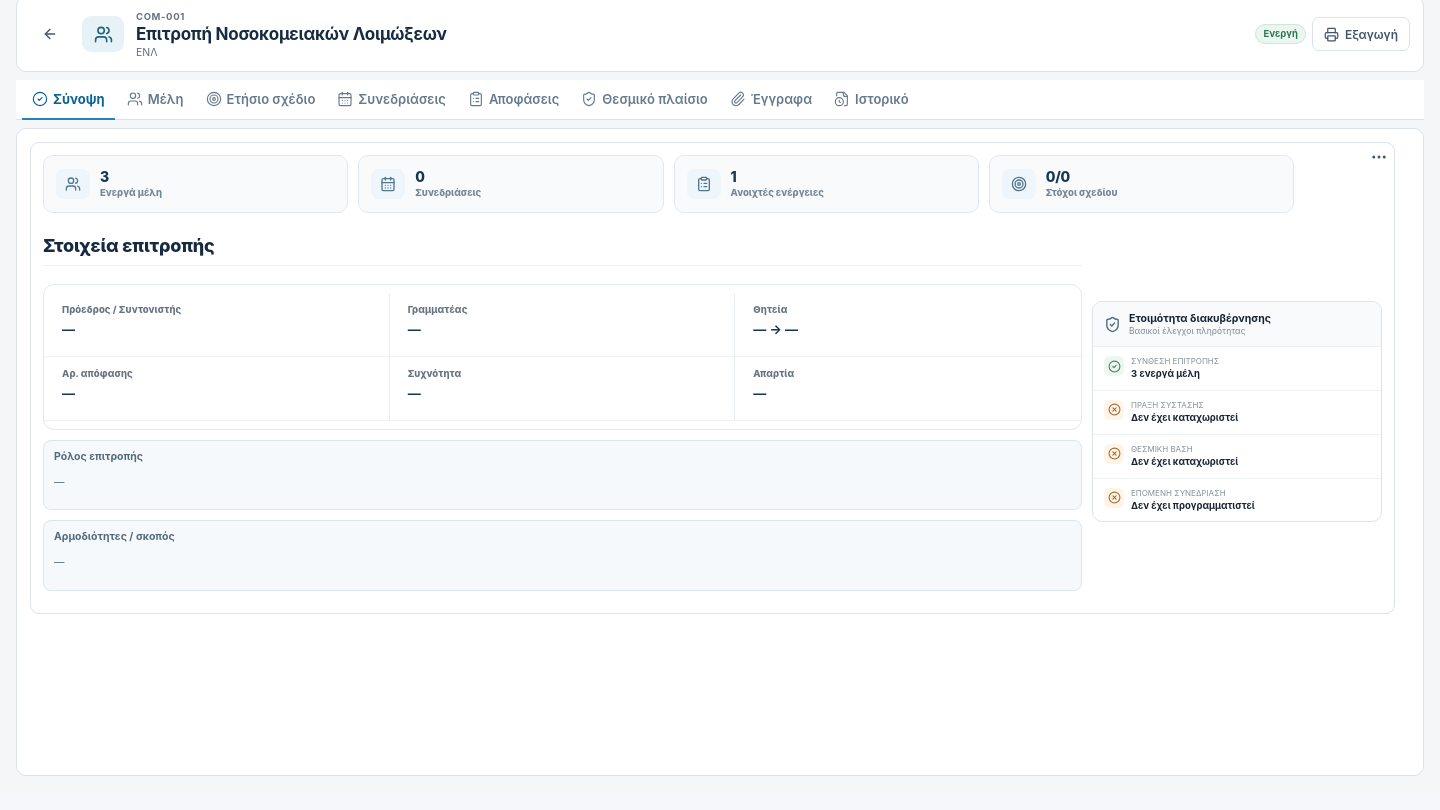
committee record: members › ends a membership through a reason dialog, never a browser prompt
The image size is (1440, 810).
Click the tab "Μέλη": (155, 100) [117,80,194,120]
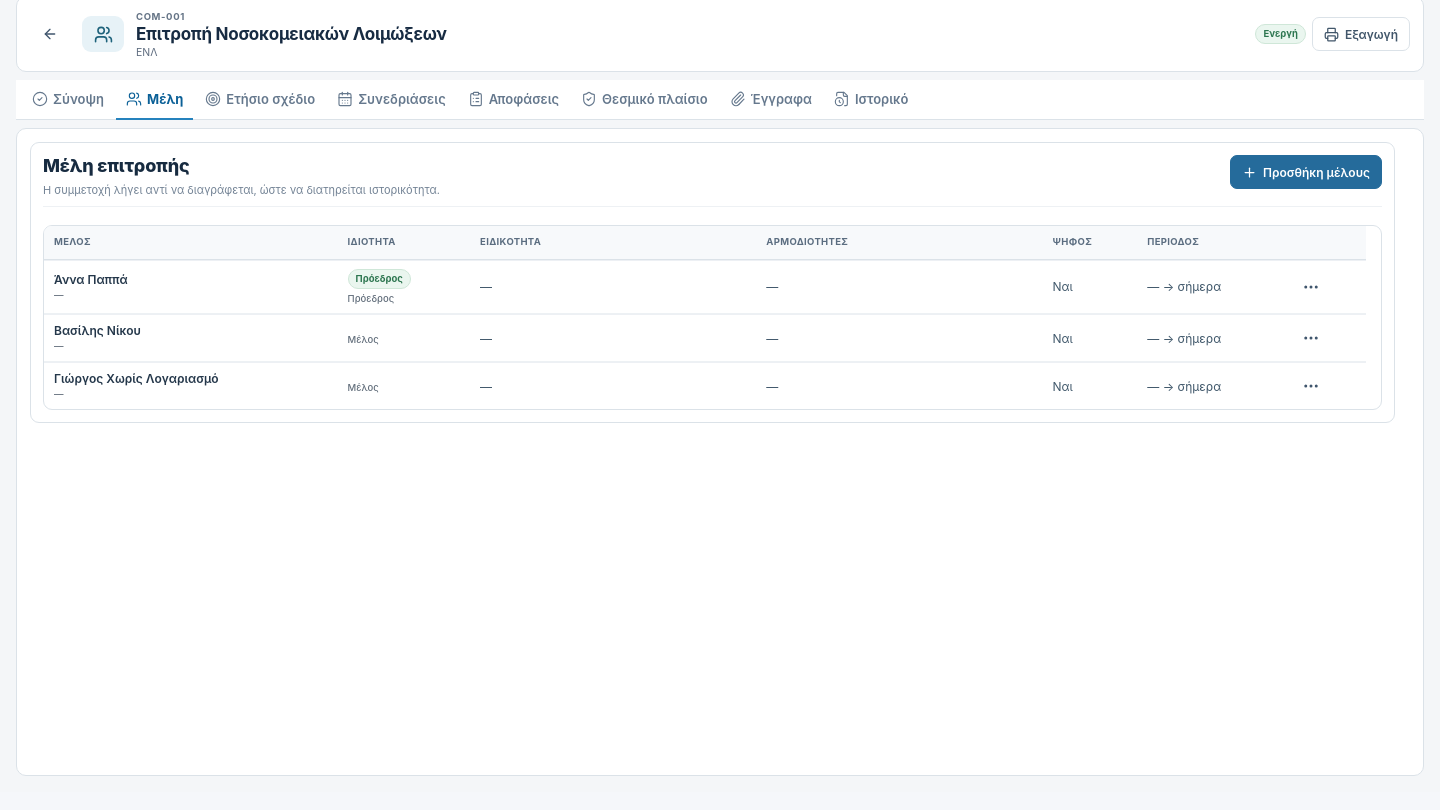
Click the button named "Ενέργειες" in the row of "Άννα Παππά": (1311, 287) [1296,272,1326,302]
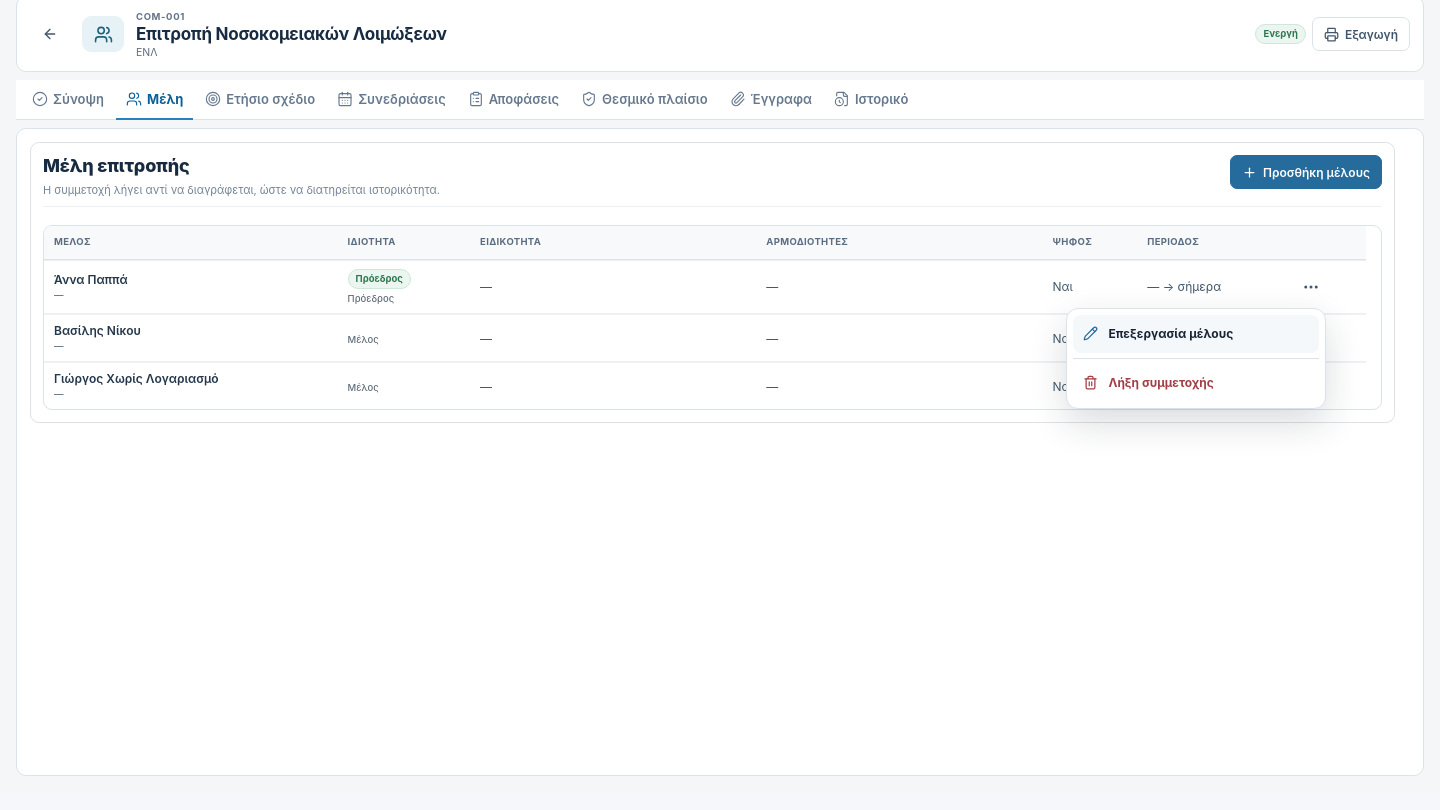
Click the menu item "Λήξη συμμετοχής": (1196, 383) [1073,364,1319,402]
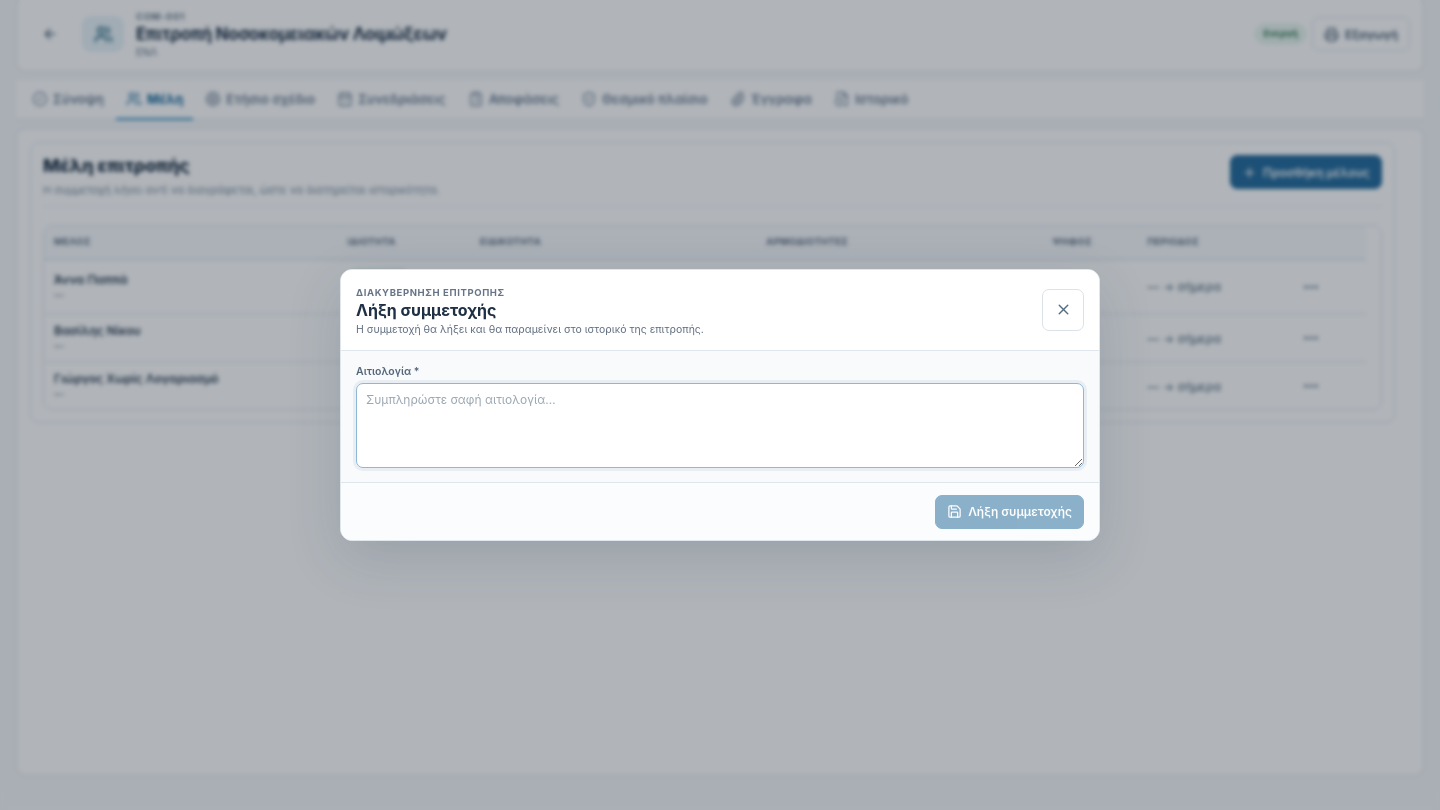
Check: the dialog "Λήξη συμμετοχής" is shown, box [340,268,1100,541]
